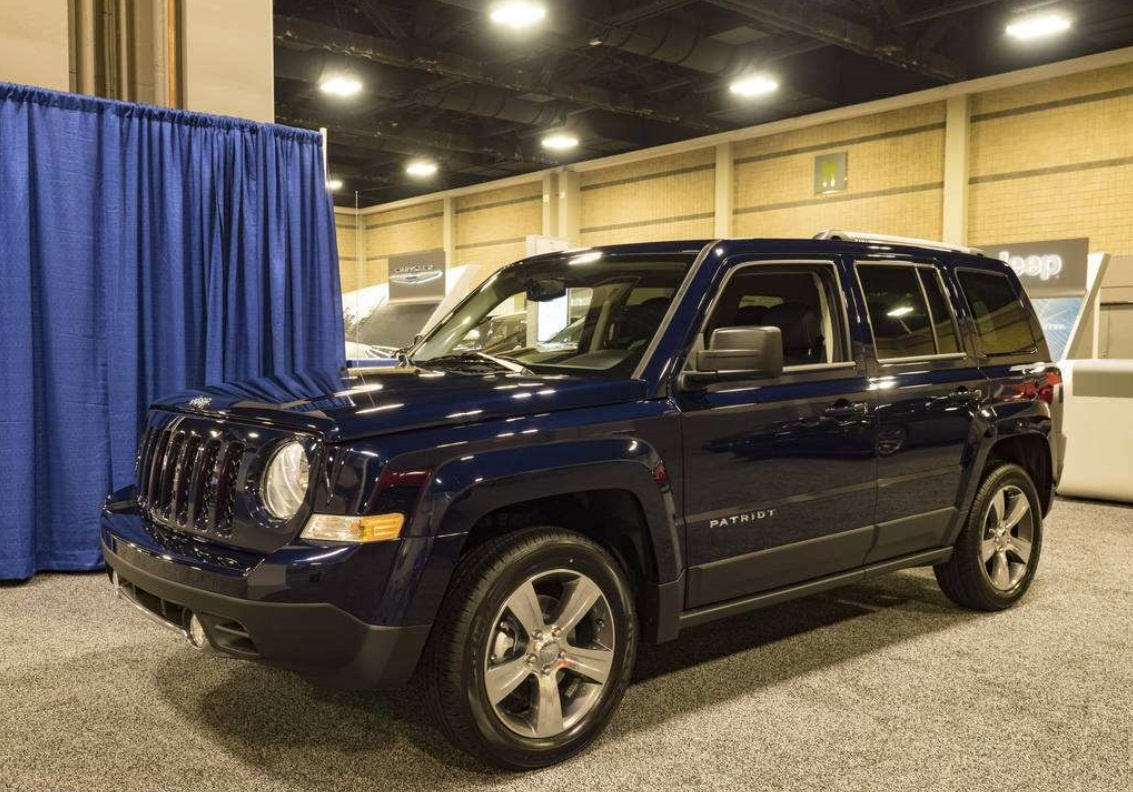jeep: (100, 183, 1086, 734)
